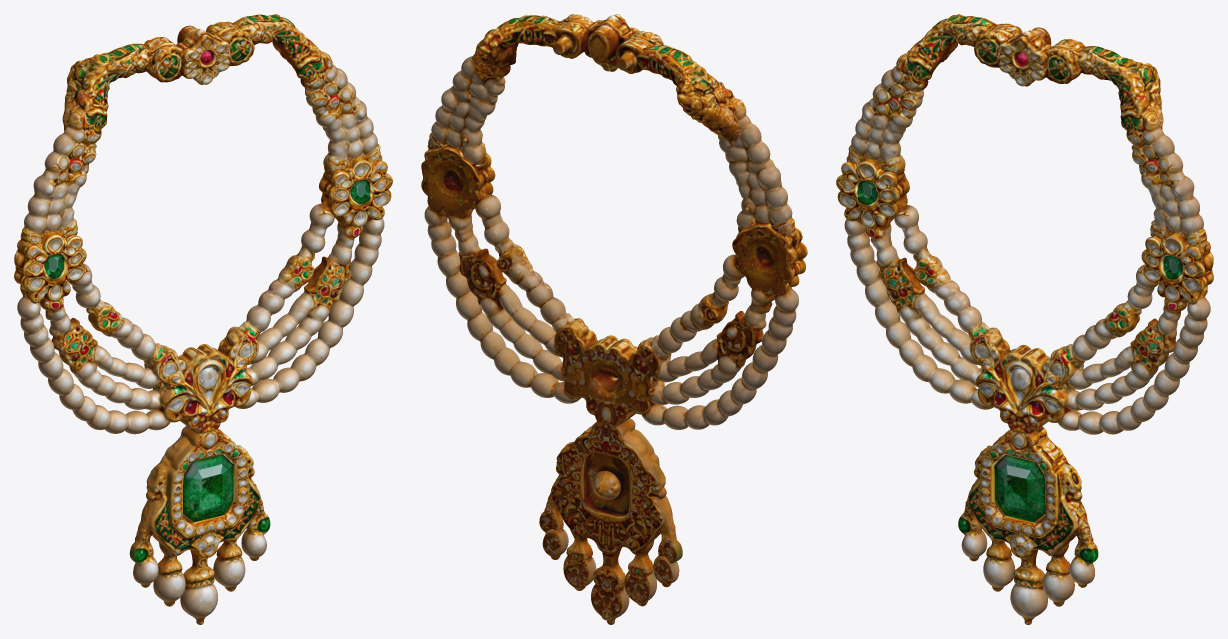
File: jewelry-necklace.glb
3 views of the same model, side by side, from view 1: azimuth 30°, elevation 25°; view 2: azimuth 150°, elevation 25°; view 3: azimuth 330°, elevation 25° (orthographic). The views are drawn at different scales.
Parts seen in each view (by area): view 1: tripo_node_1c3f8d5a-fe2e-41d3-a377-a933480b1230; view 2: tripo_node_1c3f8d5a-fe2e-41d3-a377-a933480b1230; view 3: tripo_node_1c3f8d5a-fe2e-41d3-a377-a933480b1230.
Boxes of the visible parts, left/top/right/bottom form: tripo_node_1c3f8d5a-fe2e-41d3-a377-a933480b1230: left=14, top=14, right=392, bottom=624; tripo_node_1c3f8d5a-fe2e-41d3-a377-a933480b1230: left=421, top=14, right=807, bottom=624; tripo_node_1c3f8d5a-fe2e-41d3-a377-a933480b1230: left=836, top=14, right=1213, bottom=624.
Bounding box in the file's own units: 0.6501 × 1 × 0.1284.
1 material, 1 textured.
